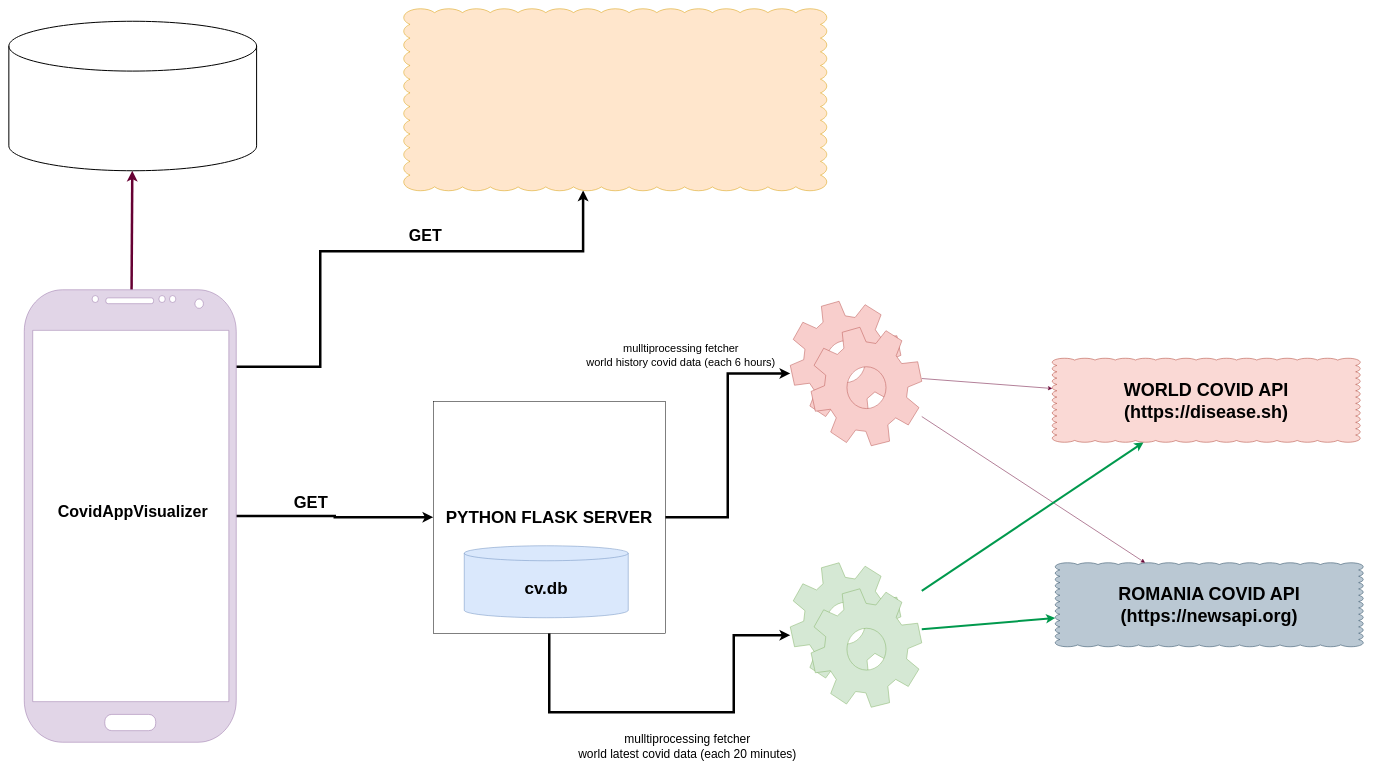
This 1373x769 diagram has some shape labels left out. Each missing label, with the centre of its shape:
"ASYNC STORAGE" goes at (132,95).
"NEWS API (https://newsapi.org)" goes at (615,99).
